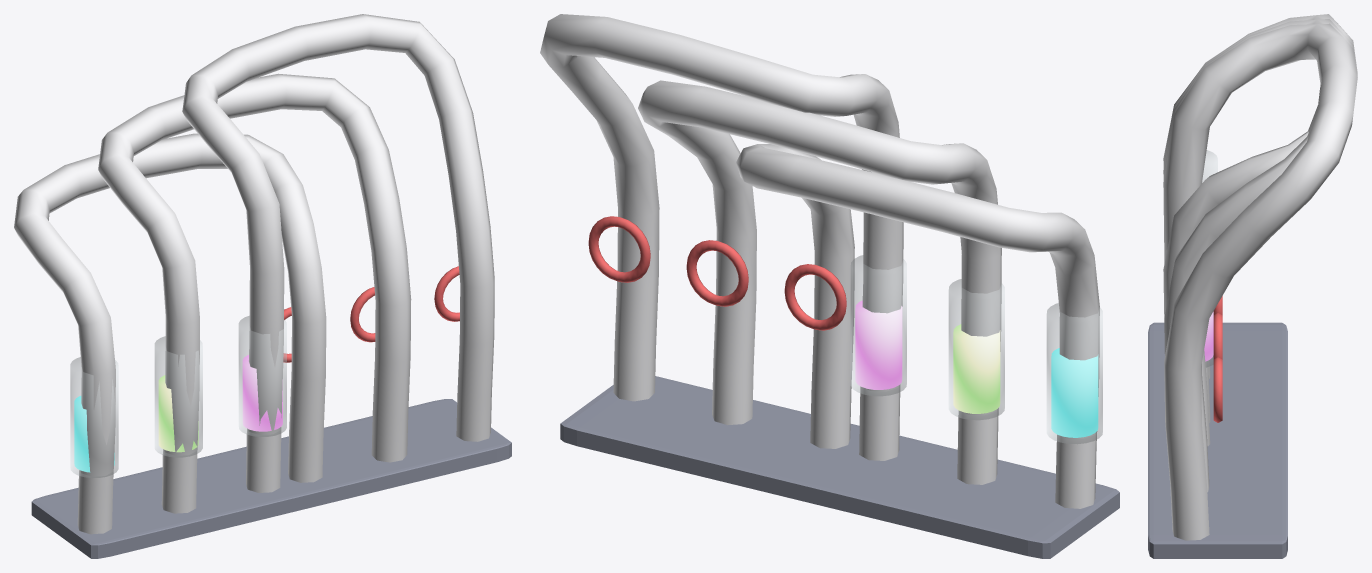
The model's file is L12_Pipe_Network.glb.
3 renders of one model, left to right at view 1: azimuth 30°, elevation 25°; view 2: azimuth 150°, elevation 25°; view 3: azimuth 270°, elevation 25°, orthographic. The views are drawn at different scales.
Parts seen in each view (by area): view 1: L12_Pipe_Network_Mesh; view 2: L12_Pipe_Network_Mesh; view 3: L12_Pipe_Network_Mesh.
Boxes of the visible parts, bbox=[...] form: L12_Pipe_Network_Mesh: bbox=[14, 14, 511, 558]; L12_Pipe_Network_Mesh: bbox=[540, 14, 1119, 558]; L12_Pipe_Network_Mesh: bbox=[1148, 14, 1357, 558].
Bounding box in the file's own units: 6.24 × 5.41 × 2.4.
